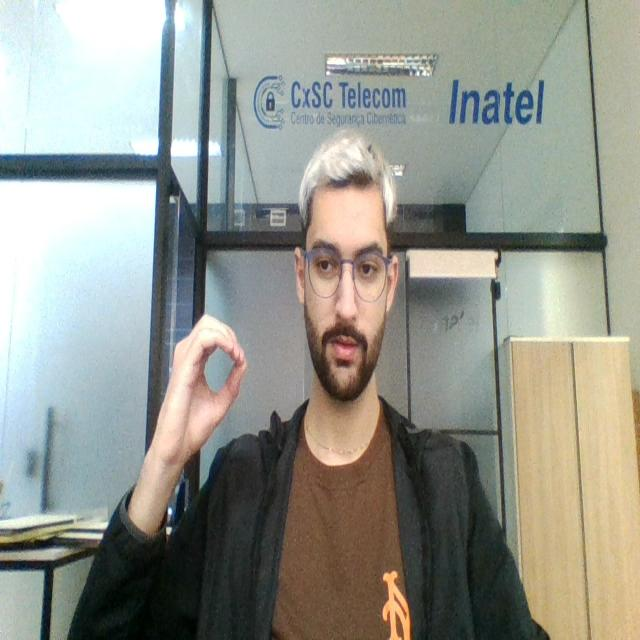O: (163, 313, 246, 459)
